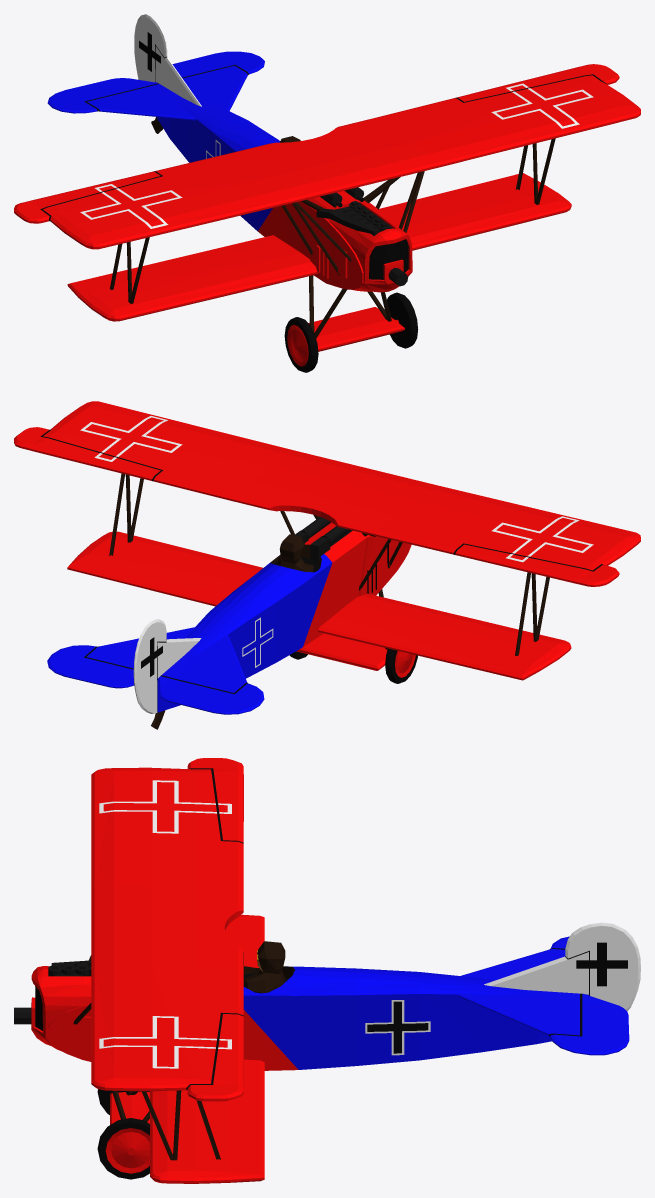
The model's file is FokkerD7.obj.
3 views of the same model, one above another, from view 1: azimuth 30°, elevation 25°; view 2: azimuth 150°, elevation 25°; view 3: azimuth 270°, elevation 25° (orthographic). The views are drawn at different scales.
Visible parts, largest first — view 1: FokkerD7; view 2: FokkerD7; view 3: FokkerD7.
Boxes of the visible parts, x1=… form: FokkerD7: x1=14, y1=14, x2=640, y2=372; FokkerD7: x1=14, y1=401, x2=640, y2=729; FokkerD7: x1=14, y1=758, x2=640, y2=1183.
Bounding box in the file's own units: 8.95 × 2.8 × 6.98.
